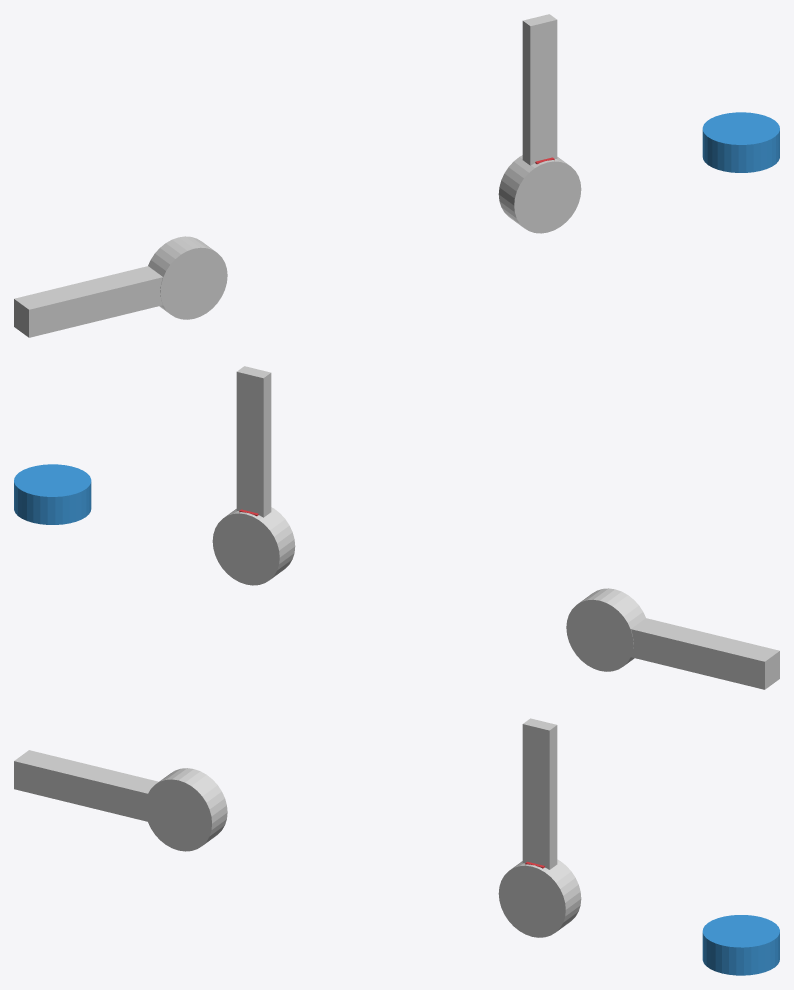
The model's file is bar_color.gltf.
3 renders of one model, top to bottom at view 1: azimuth 30°, elevation 25°; view 2: azimuth 150°, elevation 25°; view 3: azimuth 330°, elevation 25°, orthographic.
Parts seen in each view (by area): view 1: Bar, Thermo_Back, Thermo_Base, Axis, plate1; view 2: Bar, Thermo_Back, Thermo_Base, Axis, plate1; view 3: Bar, Axis, Thermo_Back, Thermo_Base, plate1.
Boxes of the visible parts, x1,y1,x2,y2 form: Bar: (14,266,162,337); Thermo_Back: (522,14,557,165); Thermo_Base: (498,155,581,233); Axis: (148,236,227,319); plate1: (702,112,779,172); Bar: (631,618,779,689); Thermo_Back: (236,366,271,517); Thermo_Base: (212,507,295,585); Axis: (566,588,645,671); plate1: (14,464,91,524); Bar: (14,750,158,821); Axis: (145,768,227,851); Thermo_Back: (522,718,557,869); Thermo_Base: (498,859,581,937); plate1: (702,915,779,975).
Bounding box in the file's own units: 11.23 × 2.94 × 1.
